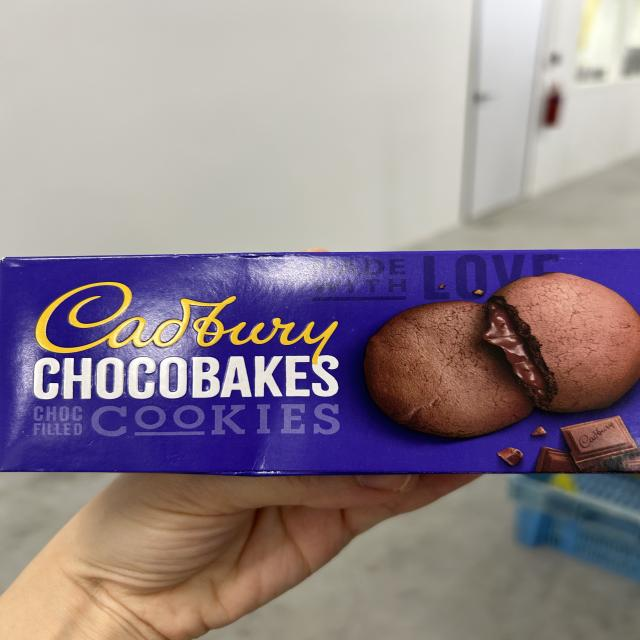object_name: (4, 257, 640, 473)
